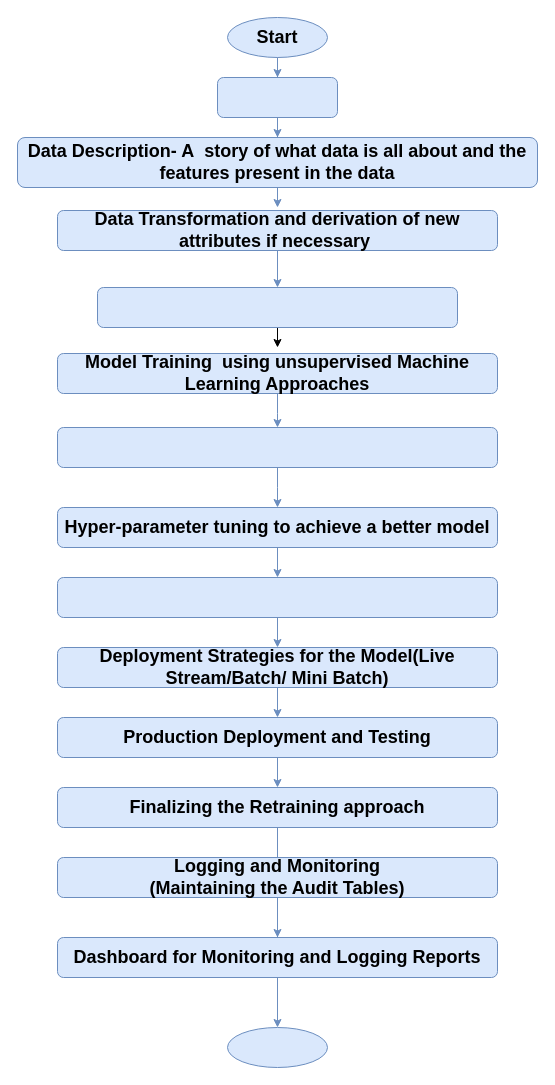
This 555x1085 diagram has some shape labels left out. Here are the shapes that lost their labels. From the top down, the centre of each, then its label:
At point 277,97: "Data Selection".
At point 277,307: "Data Standardization and Normalization".
At point 277,447: "Validating the cluster using Intrinsic and Extrinsic approaches".
At point 277,597: "Saving the created Model File".
At point 277,1047: "Stop".
